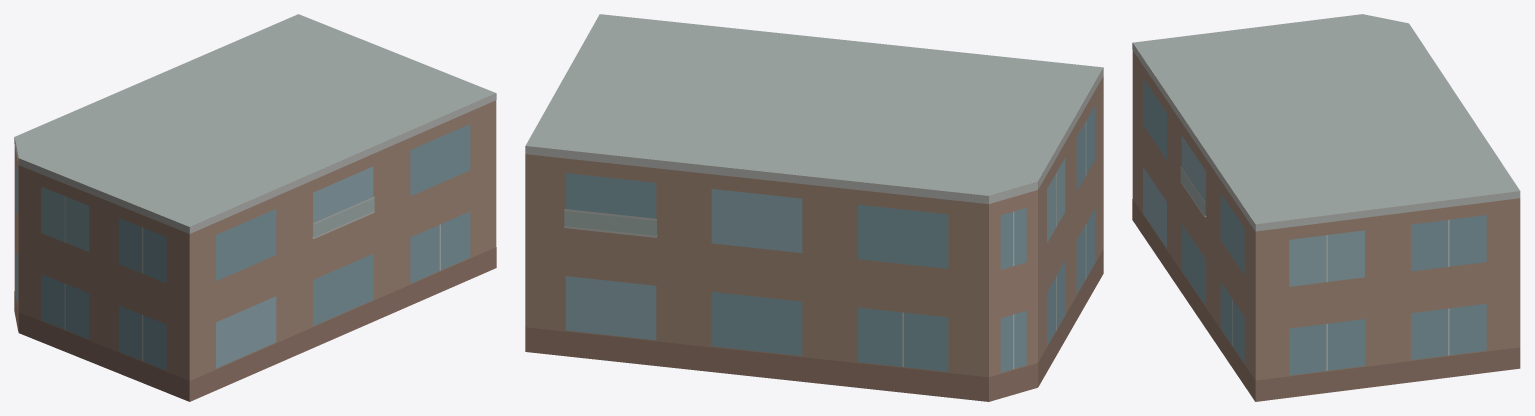
Rendered from survey-upis-32683413.glb.
The picture shows the model from 3 angles, left to right: view 1: azimuth 30°, elevation 25°; view 2: azimuth 150°, elevation 25°; view 3: azimuth 270°, elevation 25°; orthographic projection. The views are drawn at different scales.
Visible parts, largest first — view 1: survey-upis-32683413.tmp; view 2: survey-upis-32683413.tmp; view 3: survey-upis-32683413.tmp.
Part boxes in pixels (<box>): survey-upis-32683413.tmp: <box>14,14,496,401</box>; survey-upis-32683413.tmp: <box>525,14,1103,401</box>; survey-upis-32683413.tmp: <box>1132,14,1520,401</box>.
Bounding box in the file's own units: 15.52 × 6.1 × 12.09.
